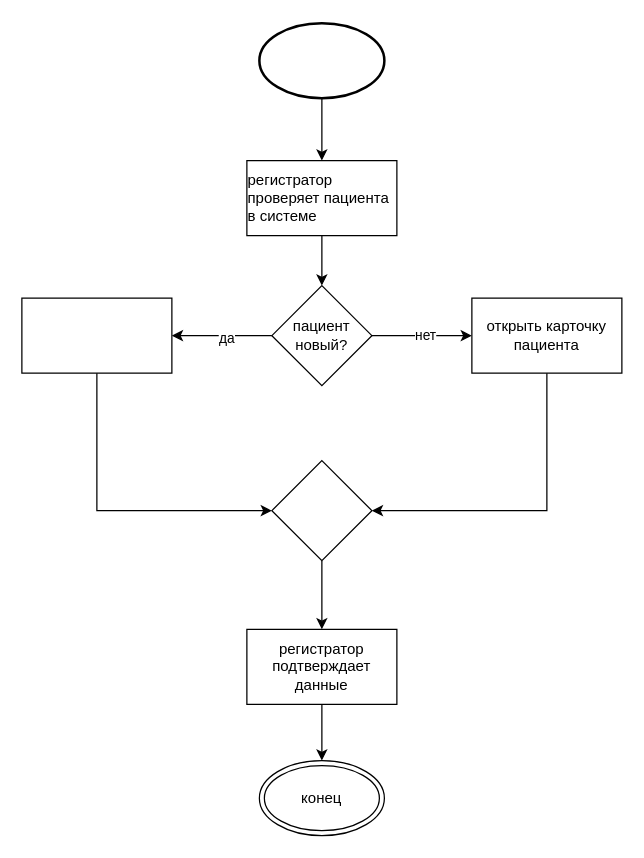
Some shapes in this 644 by 858 pixel diagram are drawn without their labels. The shapes that lost their labels are listed below. From the top down, each one's centre as x and y in pixels, then its label:
At point (321, 60): "начало".
At point (96, 335): "создать карточку пациента".
